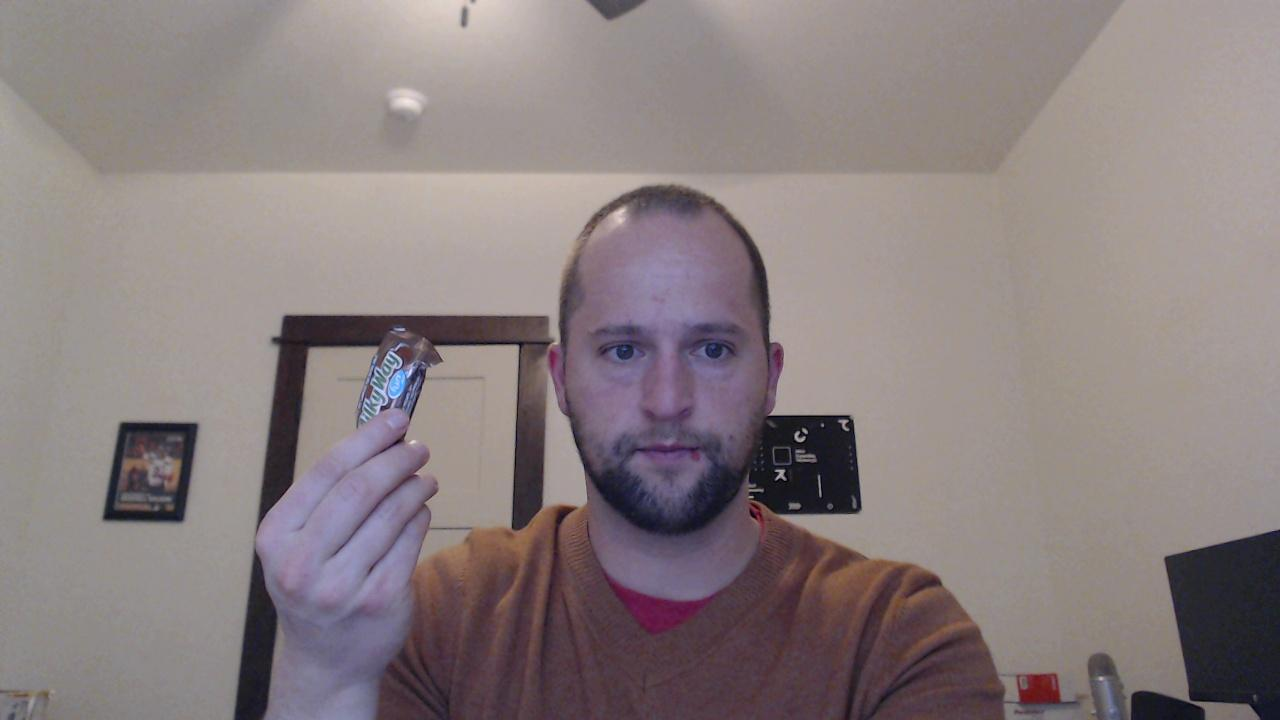milky_way: (357, 325, 448, 434)
